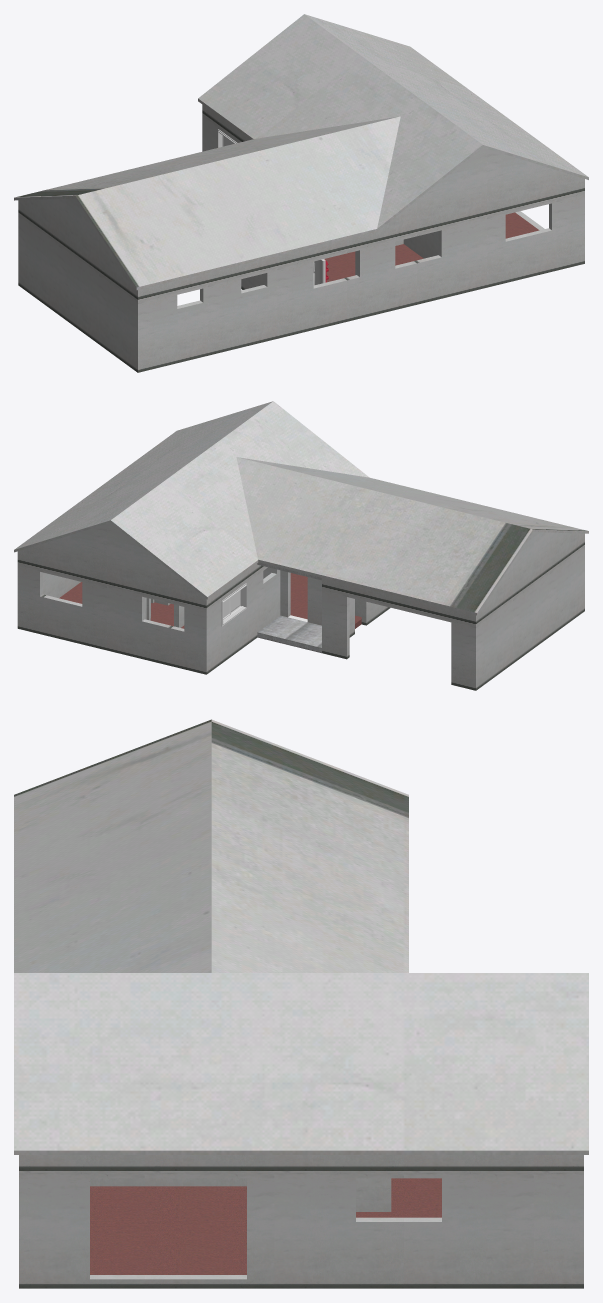
File: FRIGsset.glb
3 views of the same model, one above another, from view 1: azimuth 30°, elevation 25°; view 2: azimuth 150°, elevation 25°; view 3: azimuth 270°, elevation 25° (orthographic). The views are drawn at different scales.
Visible parts, largest first — view 1: entity_0_geometry; view 2: entity_0_geometry, Cube.008; view 3: entity_0_geometry.
Part boxes in pixels (left/top/right/bottom): entity_0_geometry: left=14, top=14, right=588, bottom=372; entity_0_geometry: left=14, top=401, right=588, bottom=690; Cube.008: left=221, top=583, right=246, bottom=626; entity_0_geometry: left=14, top=719, right=588, bottom=1288.
Bounding box in the file's own units: 20.74 × 6.38 × 14.19.
9 materials, 6 textured.
